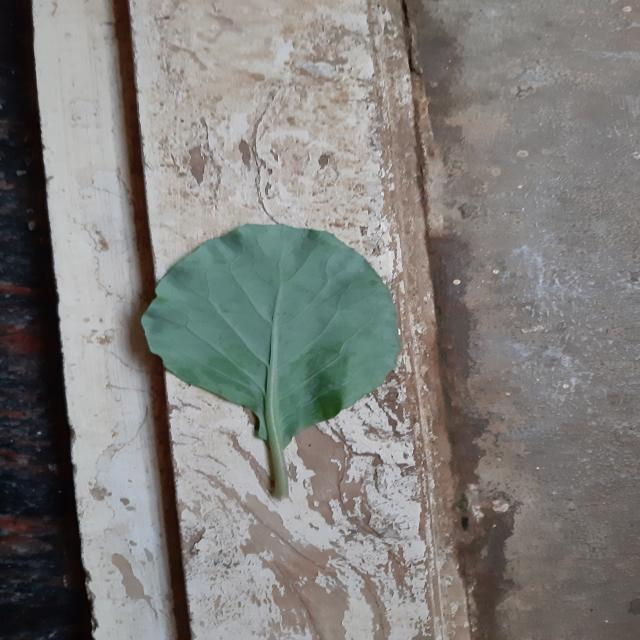Kohlrabi: (142, 224, 400, 499)
